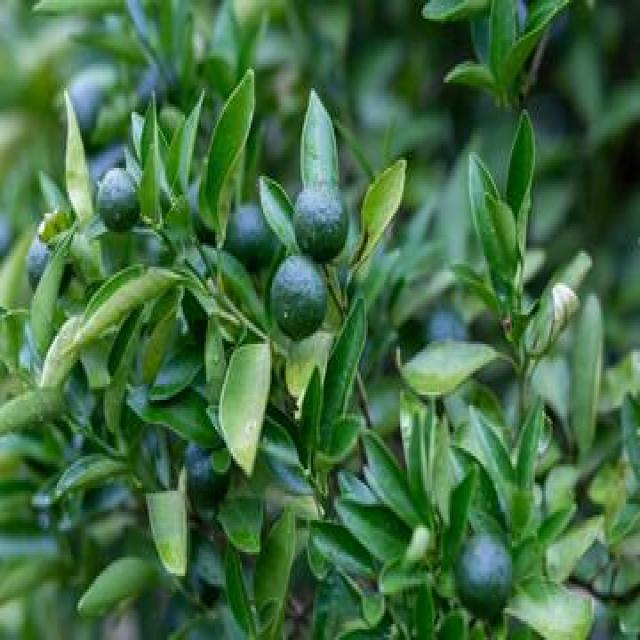Jeruk Belum Matang: (272, 256, 332, 344), (458, 534, 514, 614), (292, 184, 348, 262), (25, 232, 73, 299), (98, 168, 142, 232)
